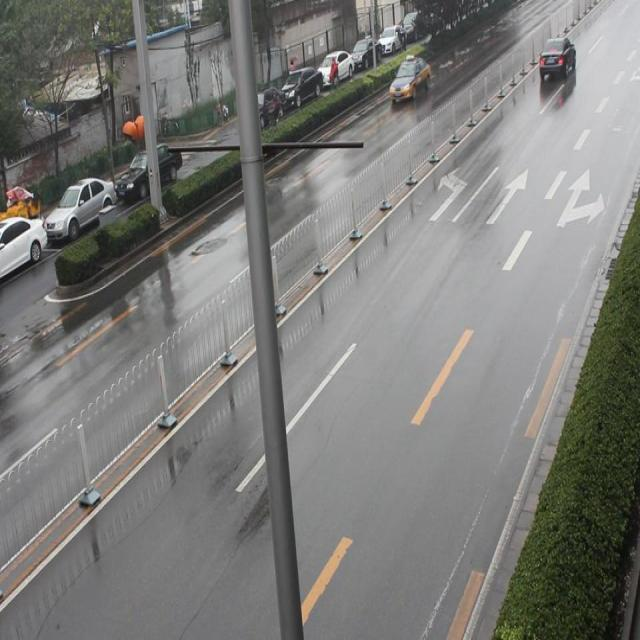car: (387, 49, 434, 107), (532, 27, 576, 84)
